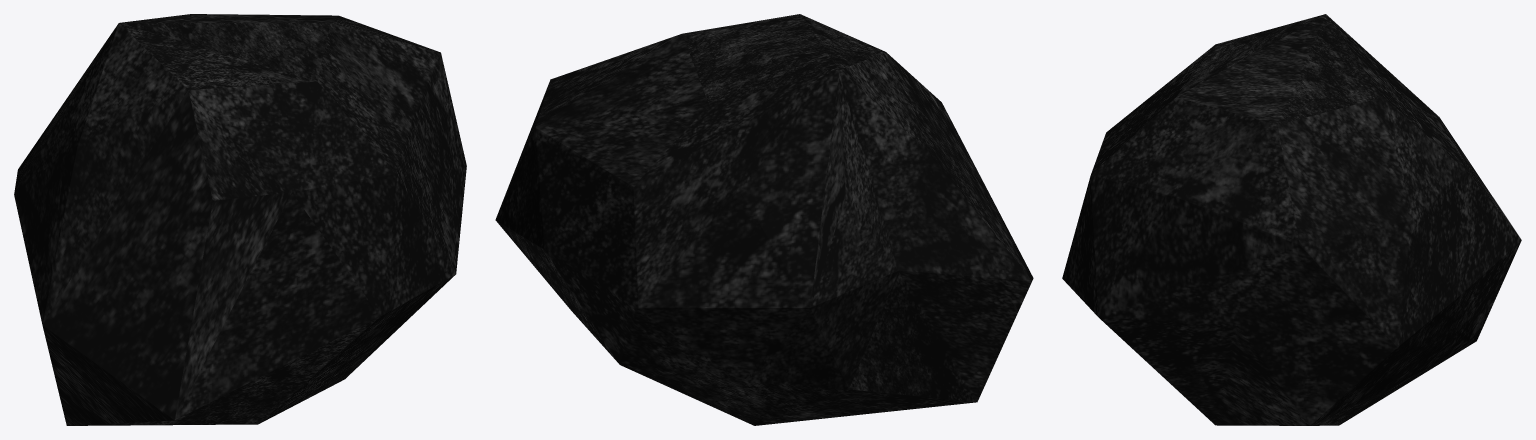
Rendered from OreMesh.glb.
The picture shows the model from 3 angles, left to right: view 1: azimuth 30°, elevation 25°; view 2: azimuth 150°, elevation 25°; view 3: azimuth 270°, elevation 25°; orthographic projection. The views are drawn at different scales.
Visible parts, largest first — view 1: Ore; view 2: Ore; view 3: Ore.
Part boxes in pixels (left/top/right/bottom): Ore: left=14, top=14, right=466, bottom=425; Ore: left=495, top=14, right=1033, bottom=425; Ore: left=1062, top=14, right=1521, bottom=425.
Bounding box in the file's own units: 0.2517 × 0.2059 × 0.2368.
Materials: 1 (1 with a texture image).
